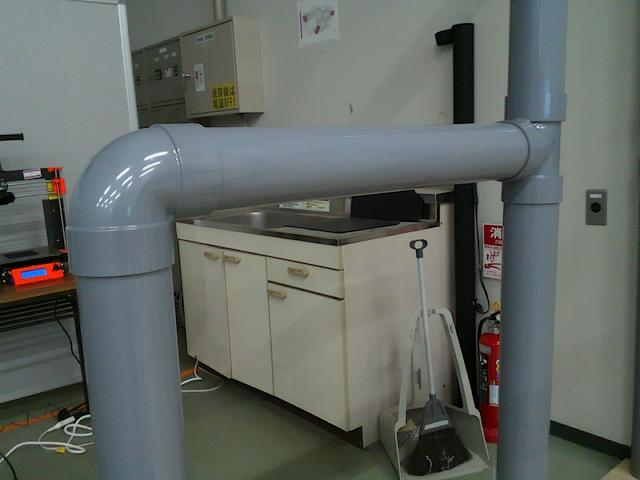bent: (68, 119, 223, 279)
junction: (498, 94, 569, 204)
